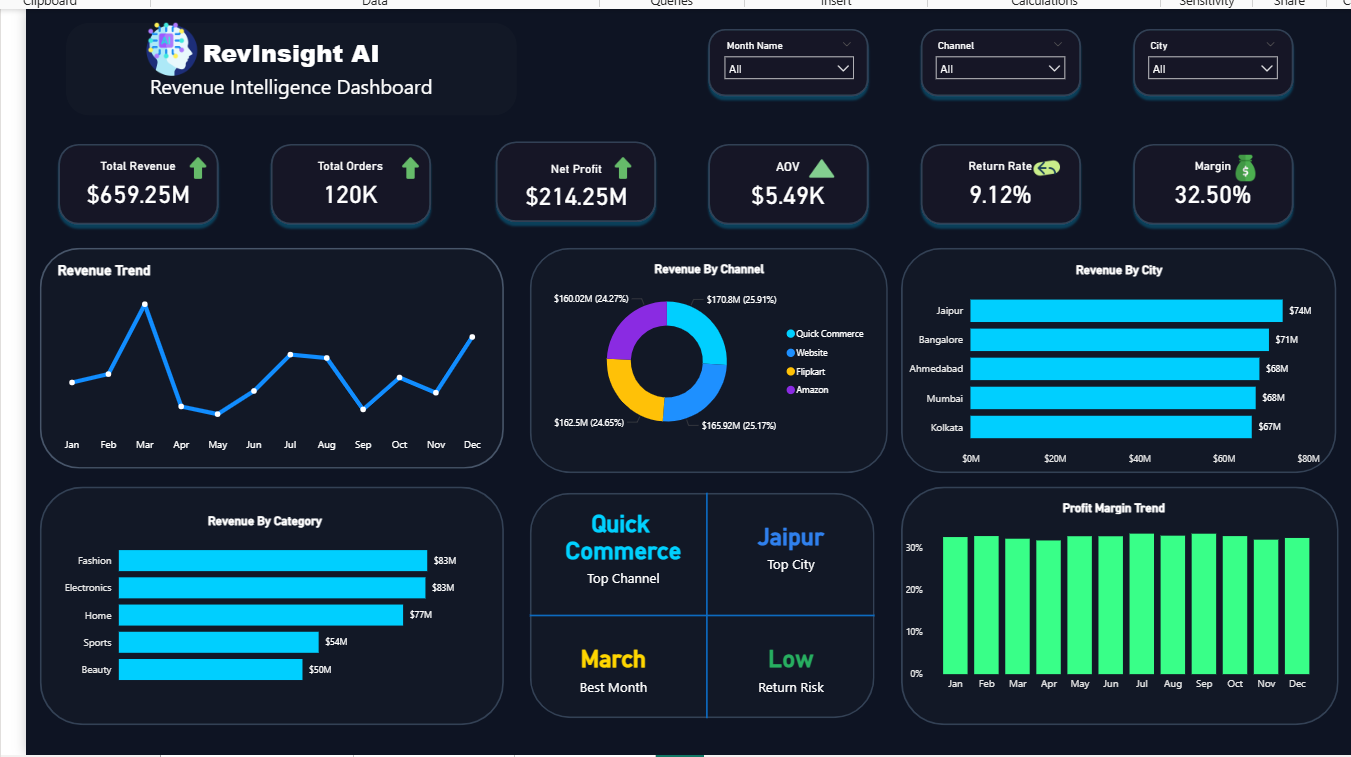

This screenshot's page, from the dashboard's own definition file:
{"tool":"powerbi","page":{"name":"AI Dashboard","canvas":[1280,720],"ordinal":2},"visuals":[{"type":"shape","title":"RevInsight AI","box":[48,32,368,64],"z":0},{"type":"shape","box":[16,128,208,112],"z":0,"group":"g2"},{"type":"shape","box":[336,128,208,112],"z":0,"group":"g4"},{"type":"shape","box":[656,128,208,112],"z":0,"group":"g5"},{"type":"shape","box":[979.9,128,208,112],"z":0,"group":"g6"},{"type":"shape","box":[27.1,496,542.6,192],"z":0,"group":"g3"},{"type":"group","id":"g1","title":"Group 1","box":[624,496,448,192],"z":0,"group":"g10"},{"type":"shape","box":[624,496,448,192],"z":0,"group":"g1"},{"type":"group","id":"g2","title":"Group 1","box":[16,128,208,112],"z":1000},{"type":"group","id":"g3","title":"Group 1","box":[27.1,496,542.6,192],"z":1000,"group":"g9"},{"type":"group","id":"g4","title":"Group 1","box":[336,128,208,112],"z":2000},{"type":"group","id":"g5","title":"Group 1","box":[656,128,208,112],"z":3000},{"type":"shape","title":"Revenue Trend","box":[624,256,560,224],"z":3000,"group":"g8"},{"type":"group","id":"g6","title":"Group 1","box":[979.9,128,208,112],"z":4000},{"type":"shape","box":[32,272,576,208],"z":4000,"group":"g7"},{"type":"group","id":"g7","title":"Group 11","box":[32,272,576,208],"z":5000},{"type":"group","id":"g8","title":"Group 8","box":[624,256,560,224],"z":6000},{"type":"group","id":"g9","title":"Group 2","box":[0,496,624,192],"z":7000},{"type":"group","id":"g10","title":"Group 3","box":[624,496,448,192],"z":8000},{"type":"image","box":[0,32,192,64],"z":9000},{"type":"group","id":"g11","title":"Group 1","box":[0,515.2,624,153.6],"z":9000,"group":"g9"},{"type":"clusteredBarChart","title":"Risk By Category","fields":{"Category":["Fact_Sales.Category"],"Y":["KPI_Table.Category Risk Score AI"]},"box":[32,272,544,208],"z":15000,"group":"g7"},{"type":"card","title":"Forecast Revenue AI","fields":{"Values":["KPI_Table.Forecast Revenue"]},"box":[48,154.4,144,64],"z":17000,"group":"g2"},{"type":"card","title":"Revenue Growth AI","fields":{"Values":["KPI_Table.Estimated Revenue Growth %"]},"box":[368,154.4,144,64],"z":17000,"group":"g4"},{"type":"card","title":"AI Risk Score","fields":{"Values":["KPI_Table.AI Risk Score V2"]},"box":[688,154.4,144,64],"z":17000,"group":"g5"},{"type":"card","title":"AI Alert Severity","fields":{"Values":["KPI_Table.Alert Severity AI"]},"box":[1011.9,154.4,144,64],"z":17000,"group":"g6"},{"type":"lineChart","title":"Forecast vs Actual Revenue","fields":{"Category":["Dim_Date.Month Name"],"Y":["KPI_Table.Total Revenue"],"Y2":["KPI_Table.Forecast Revenue"]},"box":[635.9,273.2,536.2,189.5],"z":17000,"group":"g8"},{"type":"card","title":"AI Summary ","fields":{"Values":["KPI_Table.AI Summary"]},"box":[0,515.2,624,153.6],"z":17000,"group":"g11"},{"type":"card","title":"AI Recommendations","fields":{"Values":["KPI_Table.Recommendation AI"]},"box":[656,528,384,128],"z":17000,"group":"g10"}]}

Visuals, with their boxes on the page's 1280x720 design canvas (x1, y1, x2, y2). These are canvas units, not pixel positions in the 1351x757 screenshot, which may show the page scaled, cropped or inside an application window:
"RevInsight AI" shape: 48:32:416:96
shape: 16:128:224:240
shape: 336:128:544:240
shape: 656:128:864:240
shape: 980:128:1188:240
shape: 27:496:570:688
"Group 1" group: 624:496:1072:688
shape: 624:496:1072:688
"Group 1" group: 16:128:224:240
"Group 1" group: 27:496:570:688
"Group 1" group: 336:128:544:240
"Group 1" group: 656:128:864:240
"Revenue Trend" shape: 624:256:1184:480
"Group 1" group: 980:128:1188:240
shape: 32:272:608:480
"Group 11" group: 32:272:608:480
"Group 8" group: 624:256:1184:480
"Group 2" group: 0:496:624:688
"Group 3" group: 624:496:1072:688
image: 0:32:192:96
"Group 1" group: 0:515:624:669
"Risk By Category" clusteredBarChart: 32:272:576:480
"Forecast Revenue AI" card: 48:154:192:218
"Revenue Growth AI" card: 368:154:512:218
"AI Risk Score" card: 688:154:832:218
"AI Alert Severity" card: 1012:154:1156:218
"Forecast vs Actual Revenue" lineChart: 636:273:1172:463
"AI Summary " card: 0:515:624:669
"AI Recommendations" card: 656:528:1040:656
